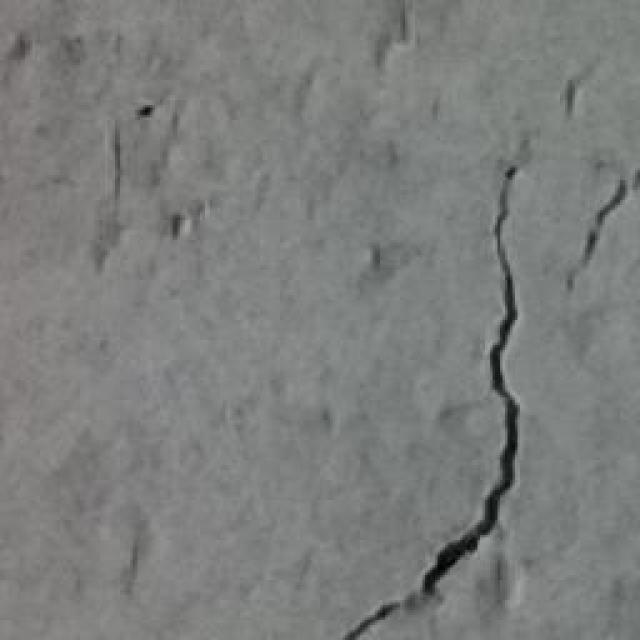Longitudinal: (340, 157, 640, 640)
